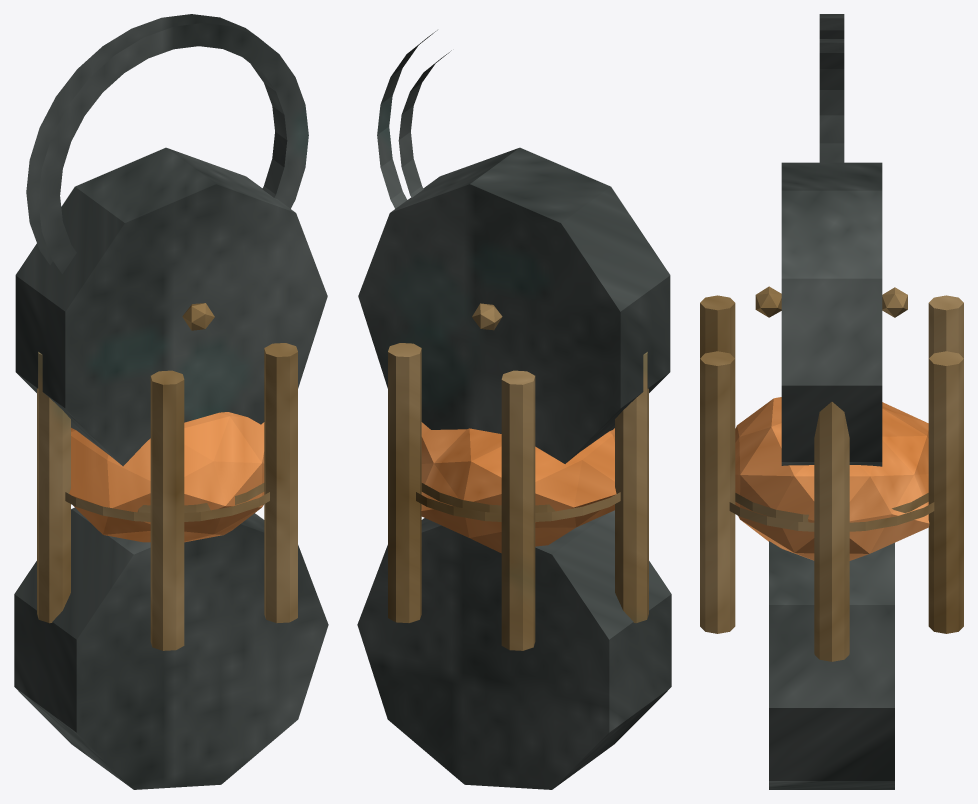
Rendered from 0919_lantern_19.glb.
The picture shows the model from 3 angles, left to right: view 1: azimuth 30°, elevation 25°; view 2: azimuth 150°, elevation 25°; view 3: azimuth 270°, elevation 25°; orthographic projection.
Visible parts, largest first — view 1: iron, brass, amber; view 2: iron, brass, amber; view 3: iron, brass, amber.
Part boxes in pixels (bbox=[...]): iron: bbox=[14, 14, 328, 789]; brass: bbox=[37, 303, 297, 650]; amber: bbox=[69, 412, 264, 542]; iron: bbox=[357, 30, 671, 789]; brass: bbox=[388, 303, 648, 650]; amber: bbox=[421, 422, 616, 553]; iron: bbox=[769, 14, 894, 789]; brass: bbox=[700, 286, 963, 661]; amber: bbox=[735, 397, 929, 560].
Bounding box in the file's own units: 0.5 × 1.32 × 0.4197.
Materials: 3 (3 with a texture image).
